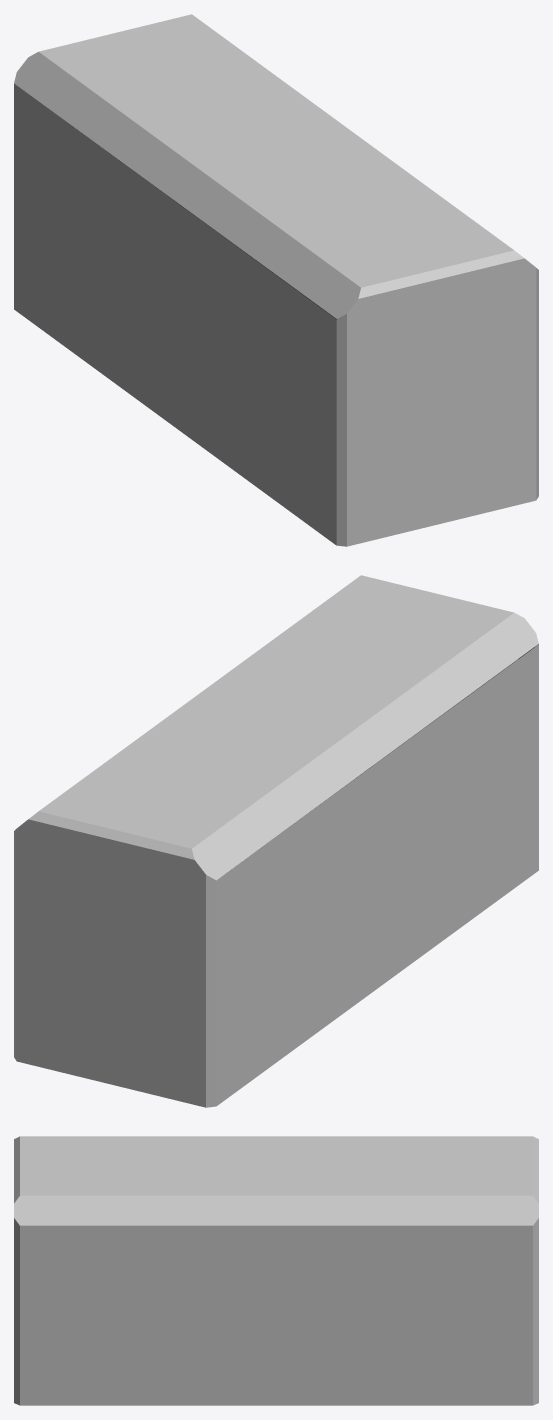
File: SM_BusStop_Bench.fbx
3 renders of one model, top to bottom at view 1: azimuth 30°, elevation 25°; view 2: azimuth 150°, elevation 25°; view 3: azimuth 270°, elevation 25°, orthographic. The views are drawn at different scales.
Visible parts, largest first — view 1: SM_BusStop_Bench_ConvexHulls; view 2: SM_BusStop_Bench_ConvexHulls; view 3: SM_BusStop_Bench_ConvexHulls.
Boxes of the visible parts, x1,y1,x2,y2 form: SM_BusStop_Bench_ConvexHulls: (14,14,538,546); SM_BusStop_Bench_ConvexHulls: (14,575,538,1107); SM_BusStop_Bench_ConvexHulls: (14,1136,538,1405).
Bounding box in the file's own units: 56.06 × 158 × 66.65.
2 materials, 1 textured.
